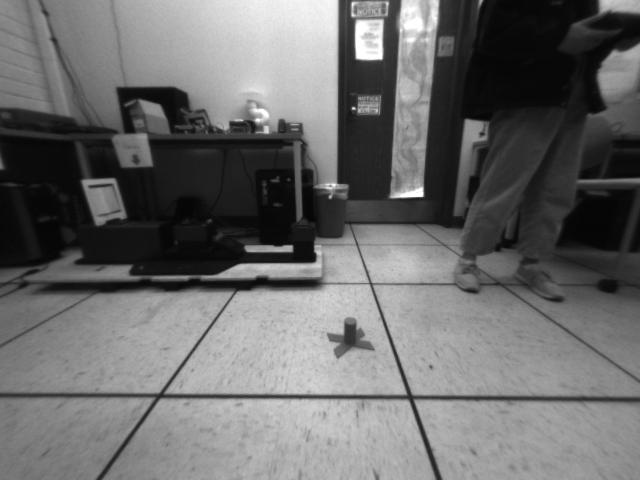x: (326, 316, 375, 360)
